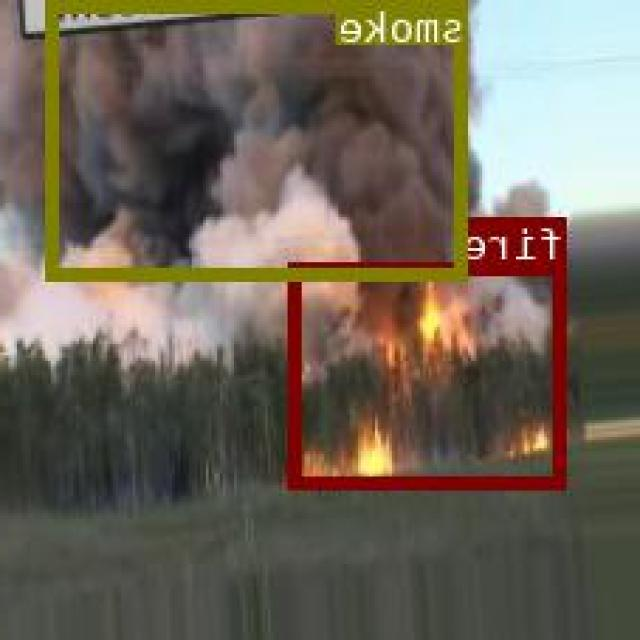fire: (292, 262, 569, 487)
smoke: (48, 0, 468, 279)
